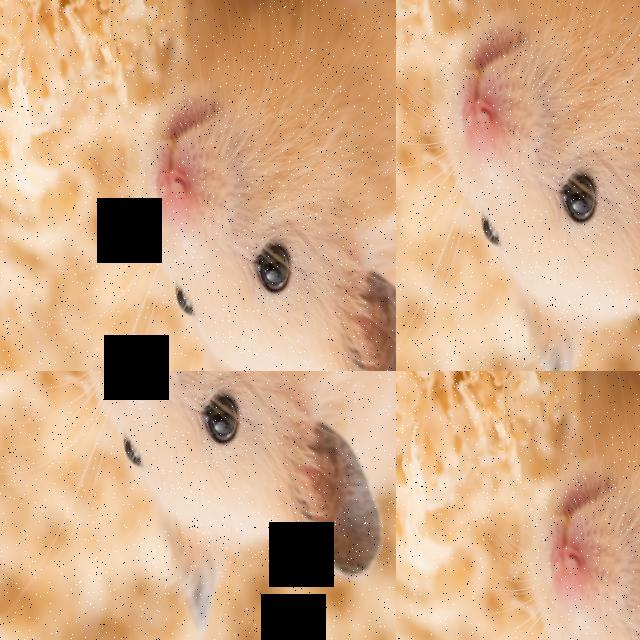hamster: (498, 371, 640, 640), (0, 249, 232, 371), (0, 371, 182, 466)
